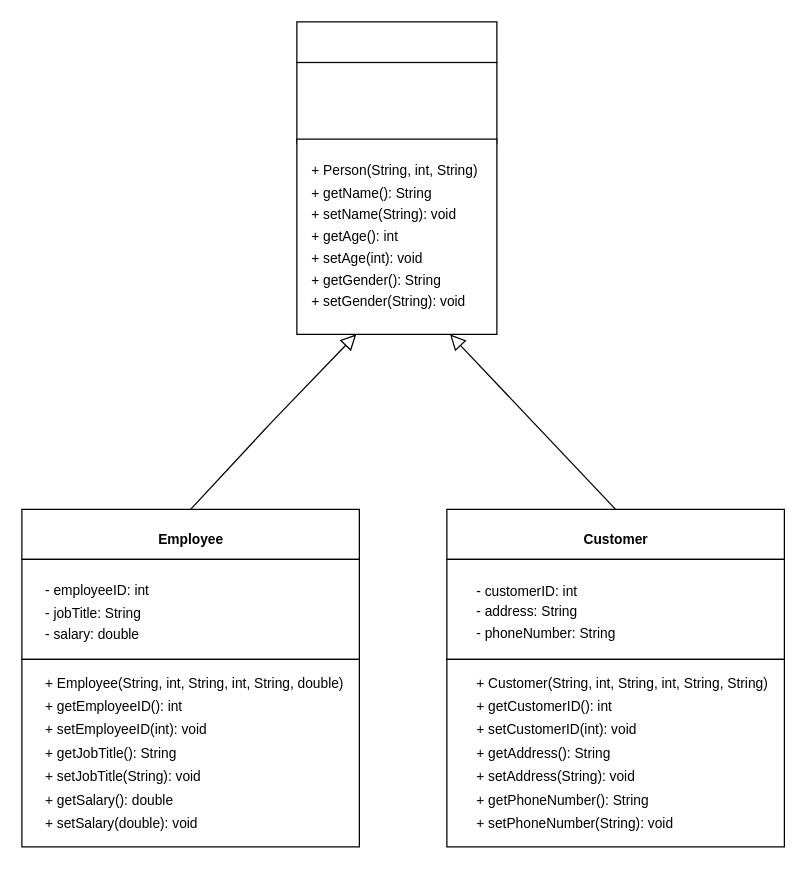
This 806x886 diagram has some shape labels left out. The centre of each missing label's shape, as x and y in pixels:
- name: String - age: int - gender: String: the point at 396,102
Person: the point at 396,41
